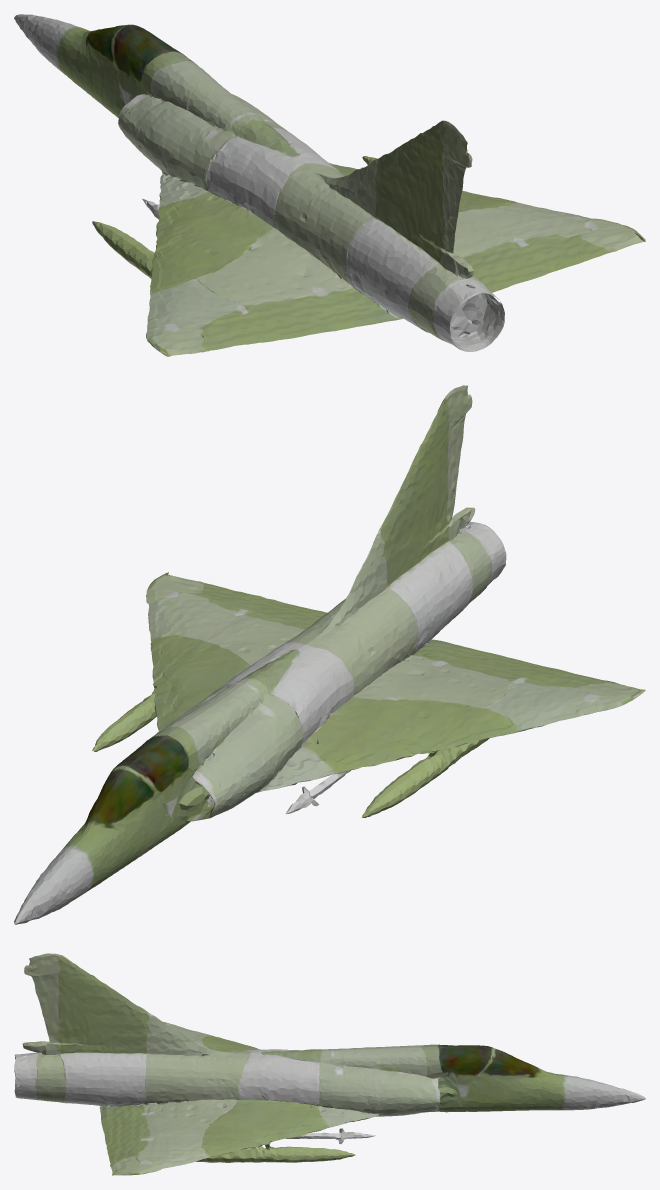
The picture shows the model from 3 angles, top to bottom: view 1: azimuth 30°, elevation 25°; view 2: azimuth 150°, elevation 25°; view 3: azimuth 270°, elevation 25°; orthographic projection. The views are drawn at different scales.
Parts seen in each view (by area): view 1: defaultobject; view 2: defaultobject; view 3: defaultobject.
Boxes of the visible parts, left/top/right/bottom form: defaultobject: left=14, top=14, right=645, bottom=356; defaultobject: left=14, top=385, right=645, bottom=924; defaultobject: left=14, top=953, right=645, bottom=1175.
Size of the model in its own units: 0.5706 by 0.274 by 0.9522.
